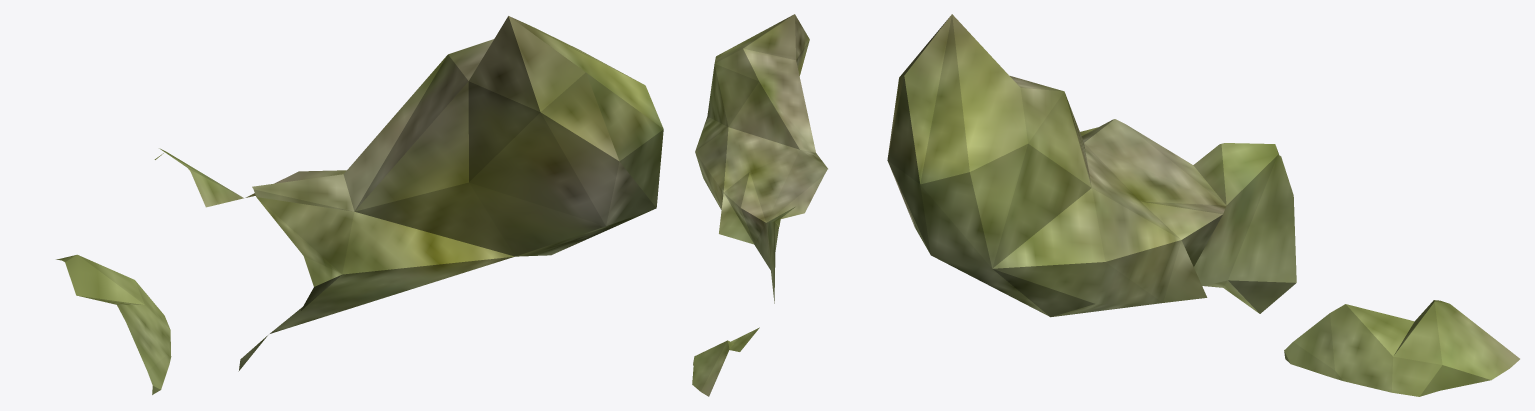
3 renders of one model, left to right at view 1: azimuth 30°, elevation 25°; view 2: azimuth 150°, elevation 25°; view 3: azimuth 270°, elevation 25°, orthographic. The views are drawn at different scales.
Size of the model in its own units: 0.8153 by 1.2 by 1.68.
1 material, 1 textured.
